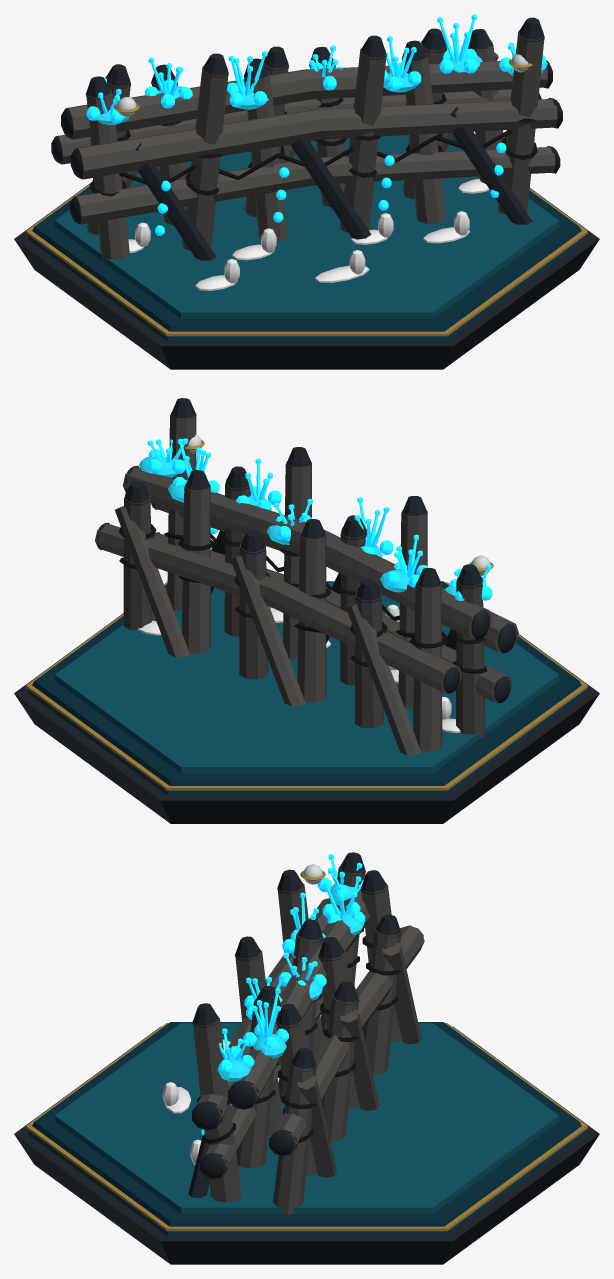
File: poseidon_driftwood_breakwater.glb
3 renders of one model, top to bottom at view 1: azimuth 30°, elevation 25°; view 2: azimuth 150°, elevation 25°; view 3: azimuth 270°, elevation 25°, orthographic.
Parts seen in each view (by area): view 1: poseidon_driftwood_breakwater; view 2: poseidon_driftwood_breakwater; view 3: poseidon_driftwood_breakwater.
Part boxes in pixels (x1,y1,x2,y2): poseidon_driftwood_breakwater: (14,14,599,369); poseidon_driftwood_breakwater: (14,398,599,823); poseidon_driftwood_breakwater: (14,852,599,1264).
Bounding box in the file's own units: 1.49 × 0.7918 × 1.72.
Materials: 1 (1 with a texture image).
